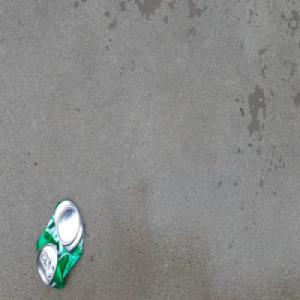SodaCan: (34, 196, 85, 291)
